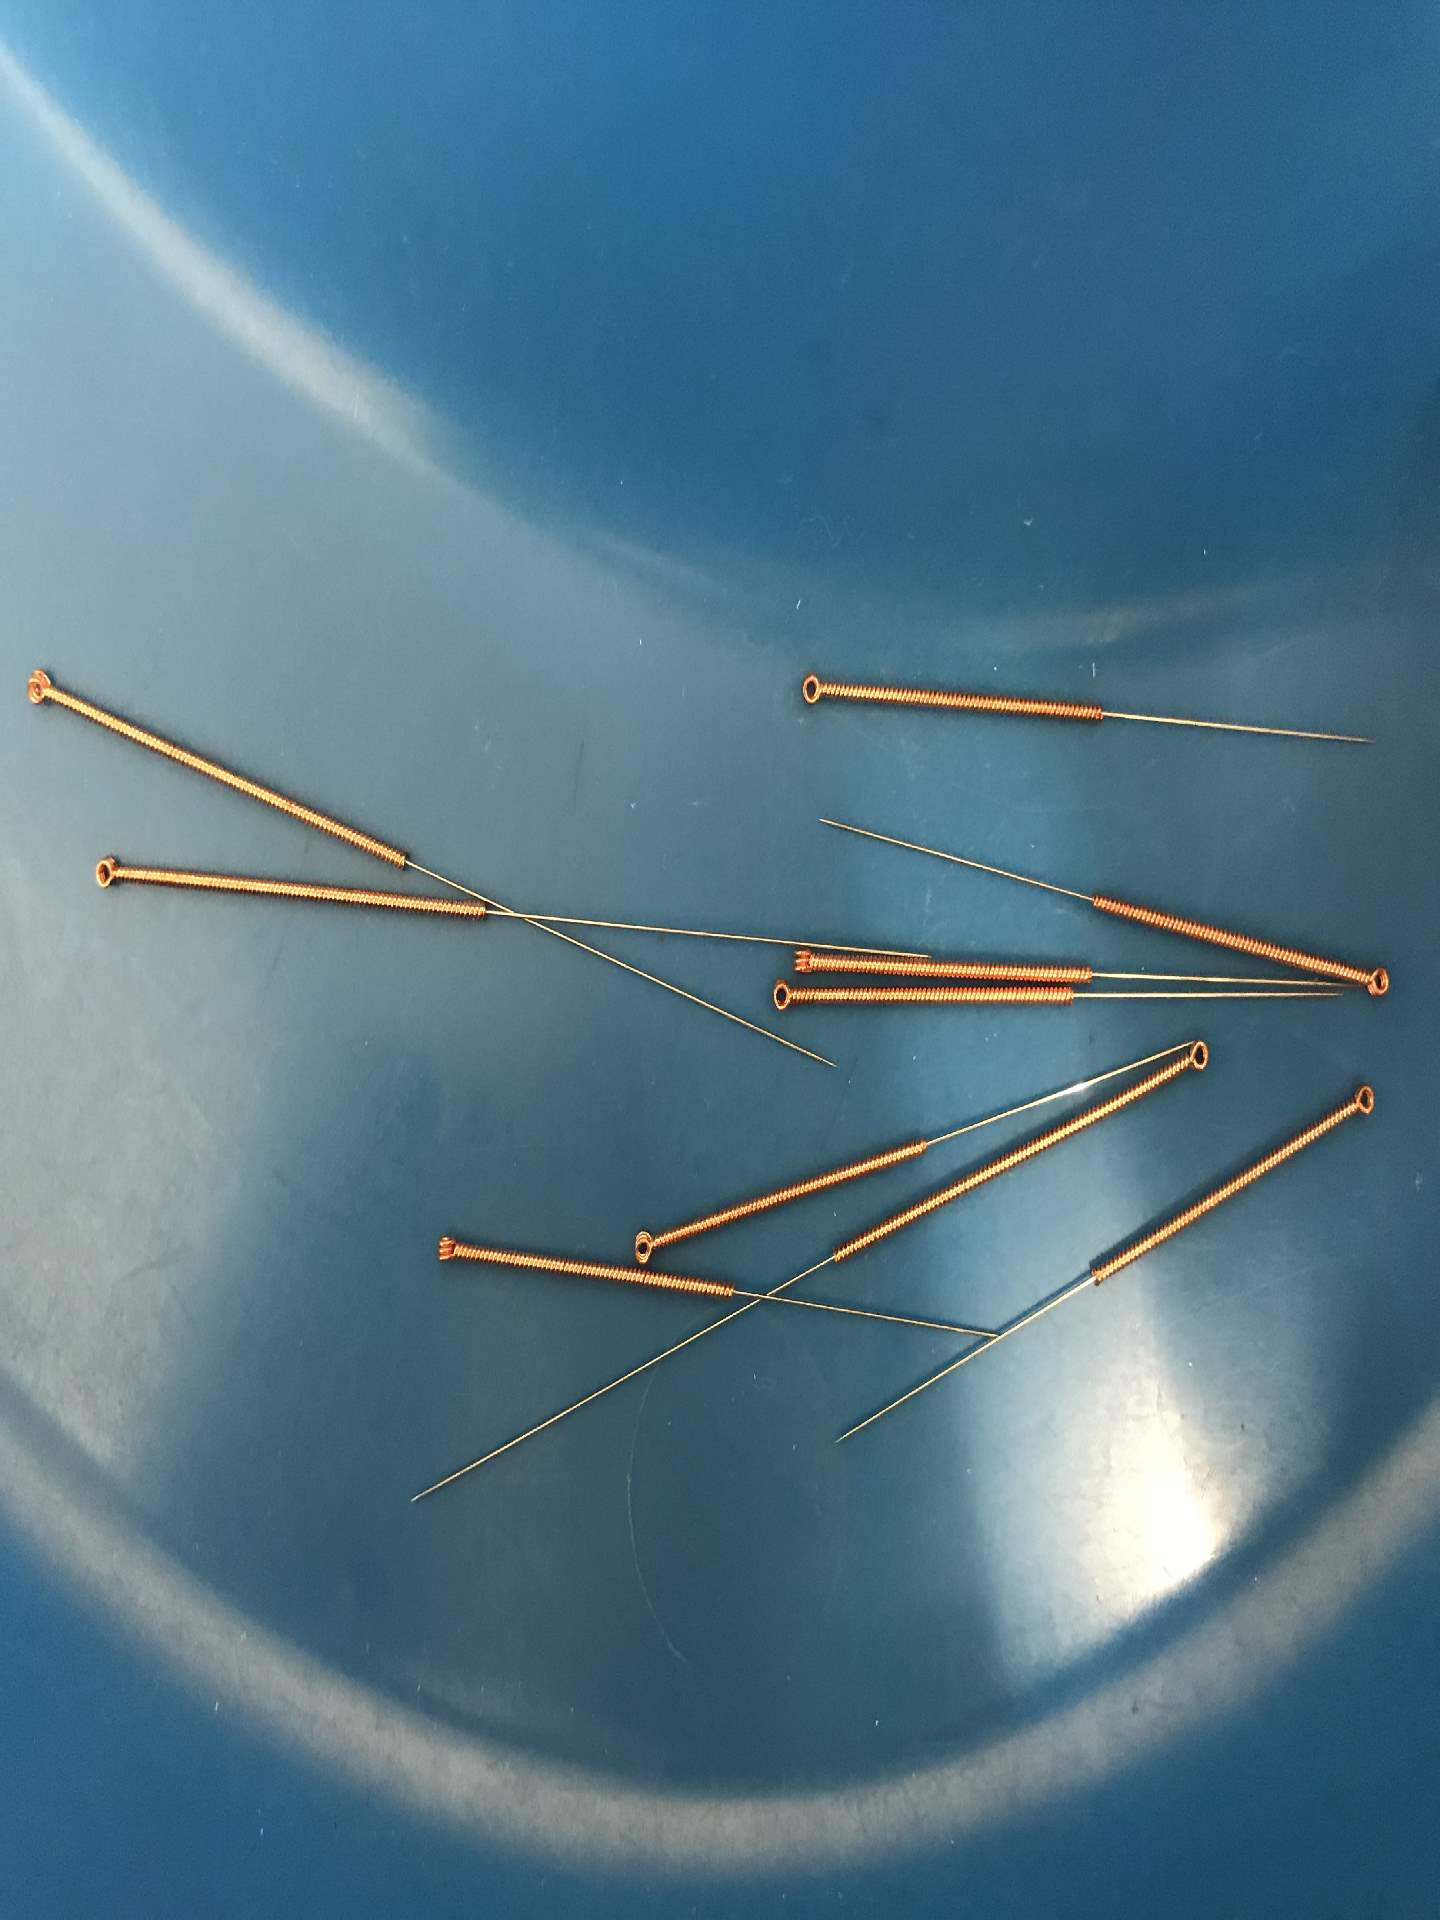needle: (15, 659, 65, 717), (1340, 1072, 1386, 1126), (1172, 1028, 1218, 1081), (1354, 952, 1398, 1005), (793, 664, 833, 717), (85, 847, 127, 897), (425, 1228, 469, 1274), (626, 1225, 669, 1270), (762, 975, 802, 1023), (787, 942, 827, 983)
